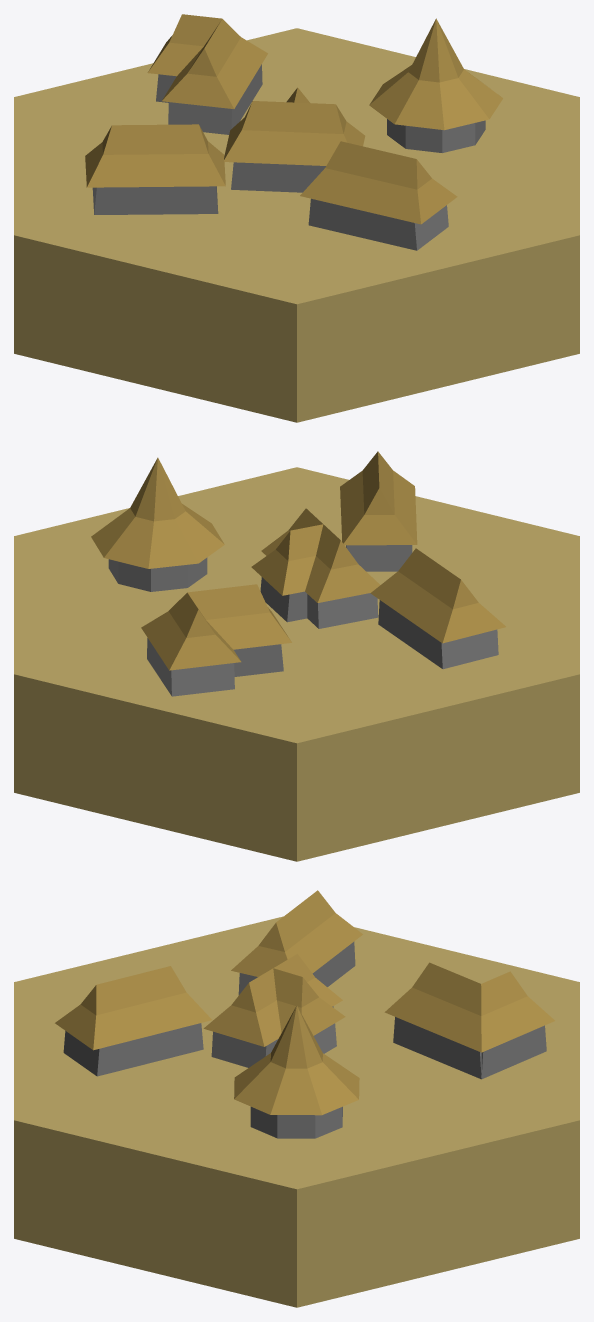
Rendered from Casas_Desertico_5.fbx.
3 renders of one model, top to bottom at view 1: azimuth 30°, elevation 25°; view 2: azimuth 150°, elevation 25°; view 3: azimuth 270°, elevation 25°, orthographic.
Visible parts, largest first — view 1: Casas_Desertico_5; view 2: Casas_Desertico_5; view 3: Casas_Desertico_5.
Part boxes in pixels (x1,y1,x2,y2): Casas_Desertico_5: [14, 14, 579, 422]; Casas_Desertico_5: [14, 451, 579, 861]; Casas_Desertico_5: [14, 890, 579, 1307].
Bounding box in the file's own units: 200 × 78.5 × 173.
